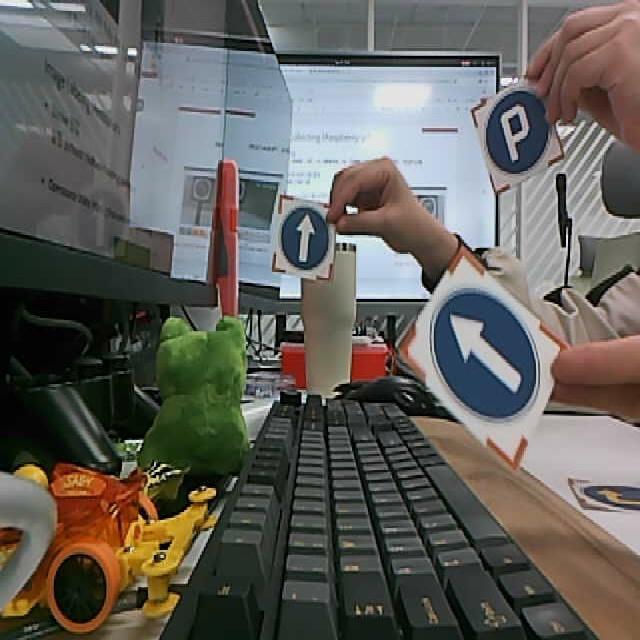parking: (483, 88, 550, 174)
straight: (427, 287, 543, 426), (279, 206, 330, 270)
